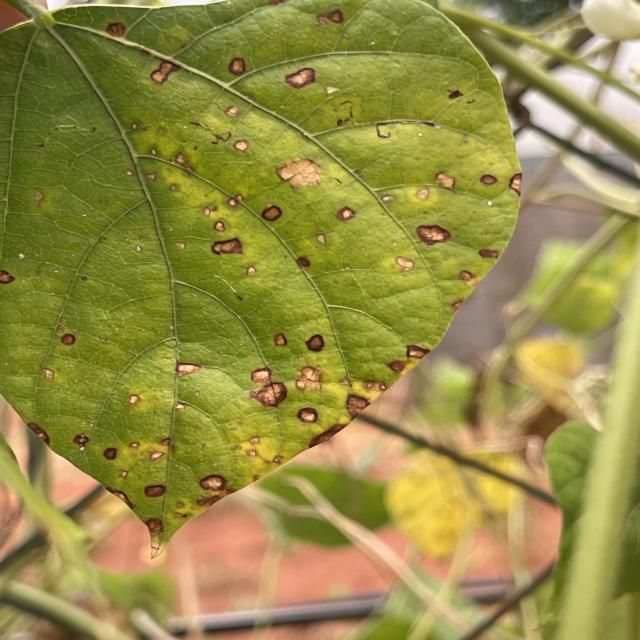Dolicos bean_cercospora leaf spot: (0, 0, 523, 552)
